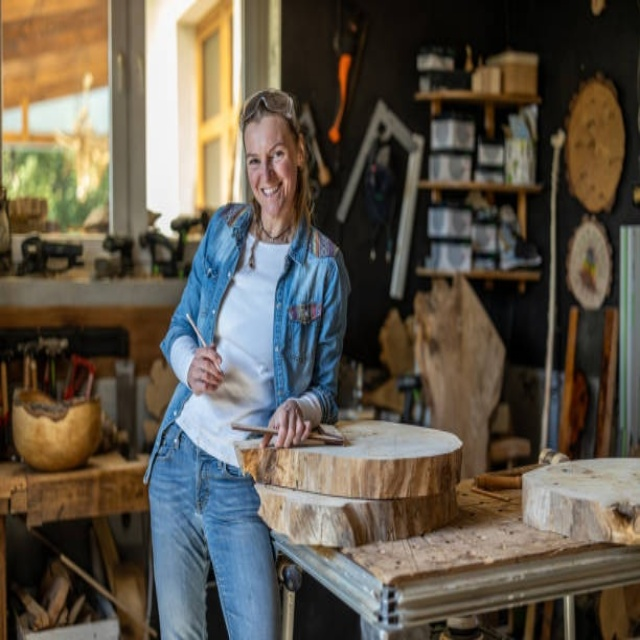Sin_gafas: (245, 138, 289, 169)
Sin_guantes: (262, 400, 312, 448), (186, 345, 224, 393)
Sin_mascara: (254, 177, 285, 209)
